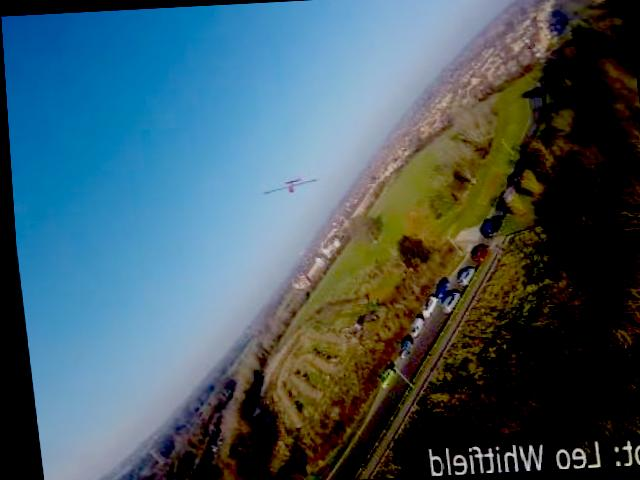uav: (252, 162, 324, 206)
